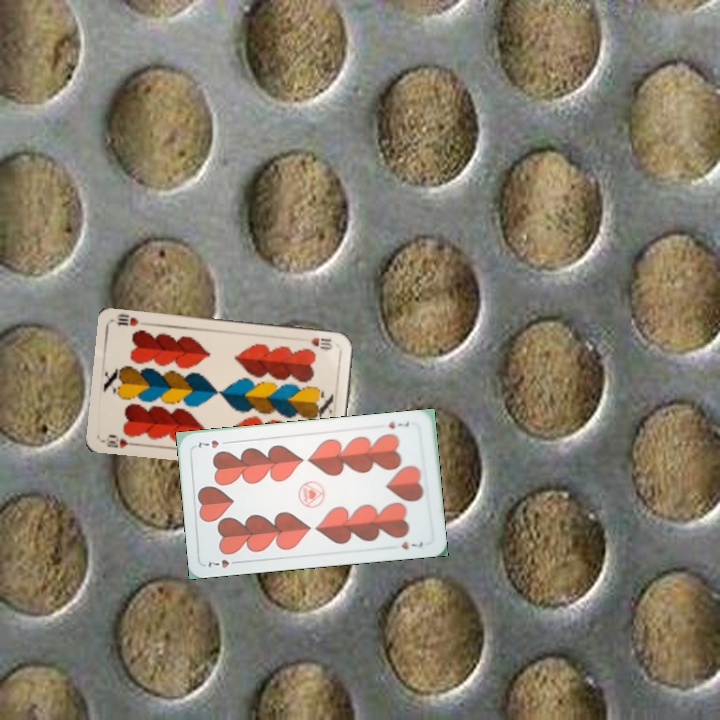H10: (102, 431, 139, 451), (307, 333, 335, 351)
H7: (204, 555, 243, 570), (384, 418, 412, 431)
